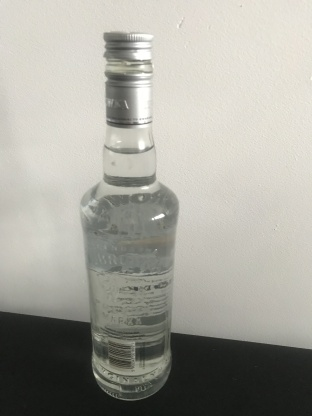nakretka: (102, 30, 154, 129)
